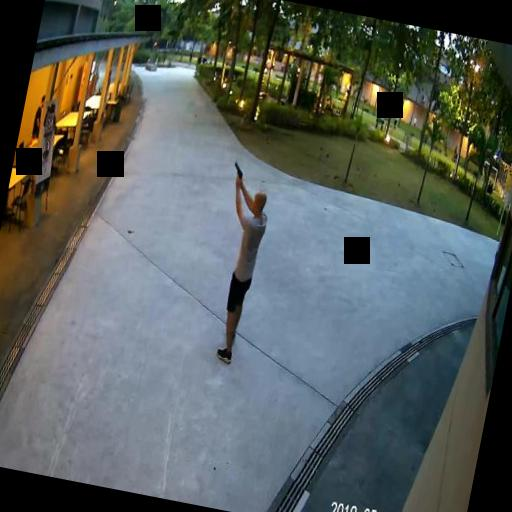Handgun: (230, 159, 245, 184)
